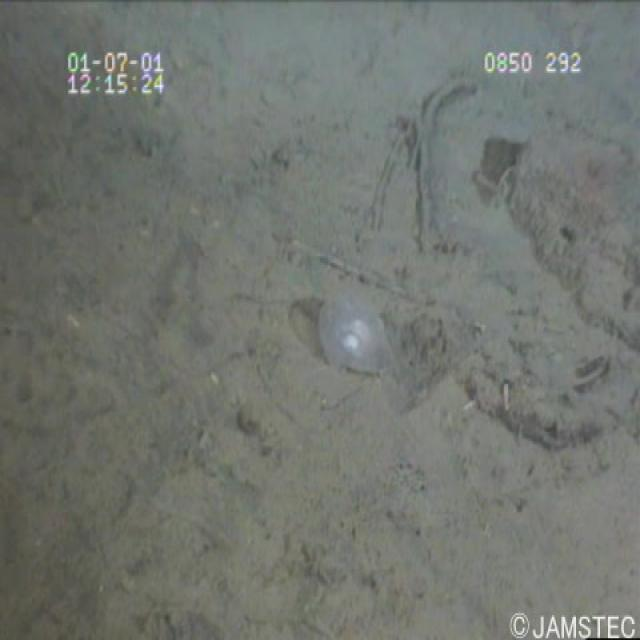plastic: (314, 270, 409, 402)
